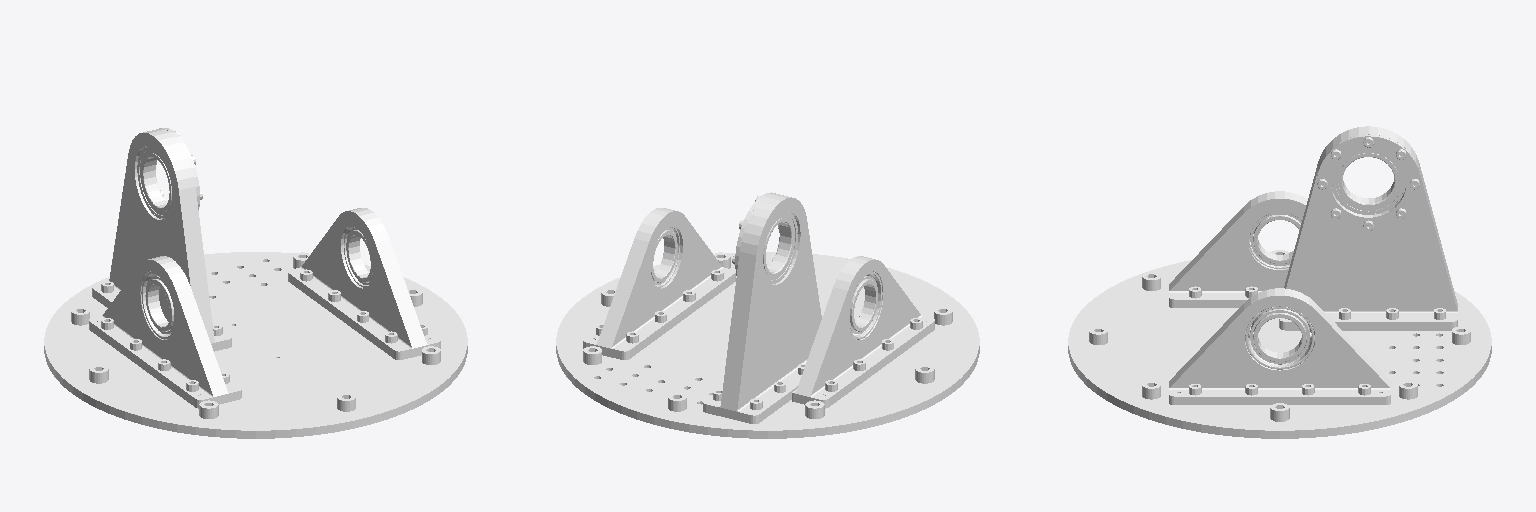
Rendered from ankle.obj.
3 views of the same model, side by side, from view 1: azimuth 30°, elevation 25°; view 2: azimuth 150°, elevation 25°; view 3: azimuth 270°, elevation 25° (orthographic).
Parts seen in each view (by area): view 1: ankle; view 2: ankle; view 3: ankle.
Boxes of the visible parts, x1=… form: ankle: x1=44, y1=128, x2=467, y2=438; ankle: x1=556, y1=192, x2=979, y2=438; ankle: x1=1068, y1=126, x2=1491, y2=438.
Bounding box in the file's own units: 0.285 × 0.1507 × 0.2847.